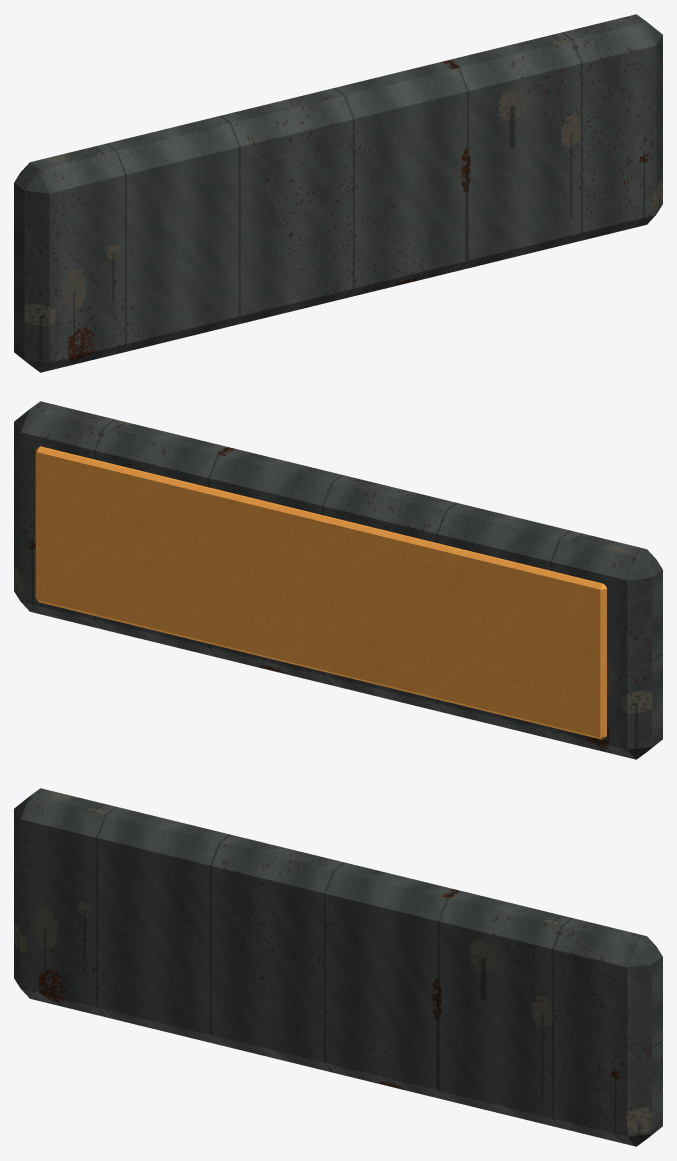
Rendered from kit-utility_lamp.obj.
The picture shows the model from 3 angles, top to bottom: view 1: azimuth 30°, elevation 25°; view 2: azimuth 150°, elevation 25°; view 3: azimuth 330°, elevation 25°; orthographic projection.
Visible parts, largest first — view 1: Reusable.utility_lamp; view 2: Reusable.utility_lamp; view 3: Reusable.utility_lamp.
Boxes of the visible parts, left/top/right/bottom form: Reusable.utility_lamp: left=14, top=14, right=662, bottom=372; Reusable.utility_lamp: left=14, top=401, right=662, bottom=759; Reusable.utility_lamp: left=14, top=788, right=662, bottom=1146.
Bounding box in the file's own units: 2.8 × 0.85 × 0.26.
Materials: 2 (2 with a texture image).
